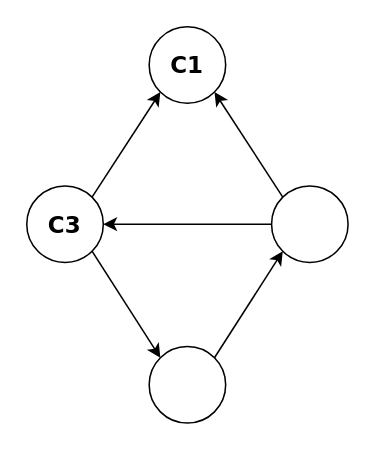
This 375x450 diagram has some shape labels left out. The shapes that lost their labels are listed below. From the top down, each one's centre as x and y in pixels, then its label:
pixel 309 223: C2
pixel 187 384: C4
